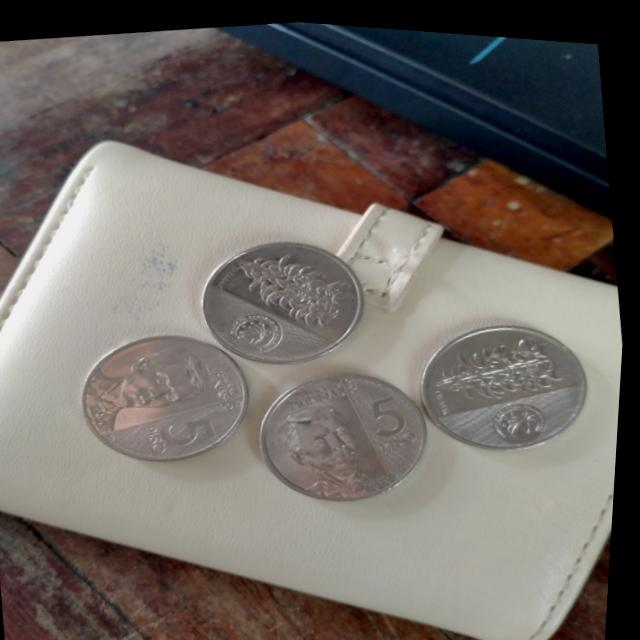5_New_Back: (410, 307, 578, 413), (216, 227, 363, 340)
5_New_Front: (137, 405, 228, 467), (359, 373, 425, 441)
